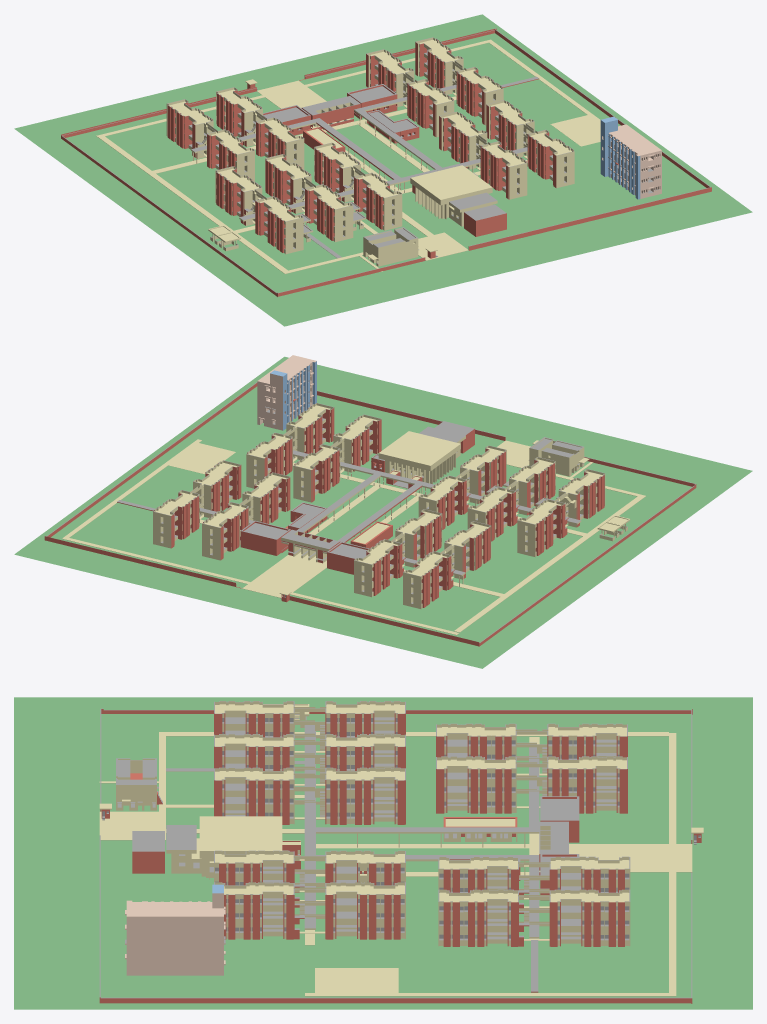
3 views of the same model, one above another, from view 1: azimuth 30°, elevation 25°; view 2: azimuth 150°, elevation 25°; view 3: azimuth 270°, elevation 25° (orthographic). The views are drawn at different scales.
Visible parts, largest first — view 1: Plane; view 2: Plane; view 3: Plane.
Part boxes in pixels (x1,y1,x2,y2): Plane: [14, 14, 752, 326]; Plane: [14, 355, 752, 668]; Plane: [14, 697, 752, 1009].
Size of the model in its own units: 22.81 by 2.57 by 22.81.
